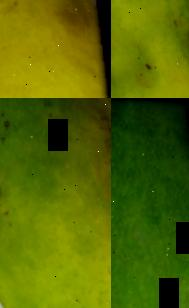PartiallyRipe: (0, 98, 111, 308), (111, 0, 189, 98)
Ripe: (0, 0, 111, 98)
Unripe: (111, 98, 189, 308)
